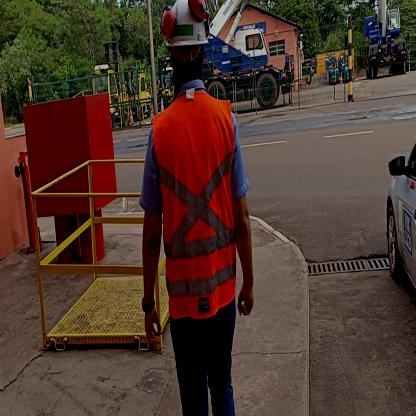Balaclava: (167, 46, 206, 90)
Capacete: (160, 0, 208, 45)
colete: (150, 100, 238, 313)
